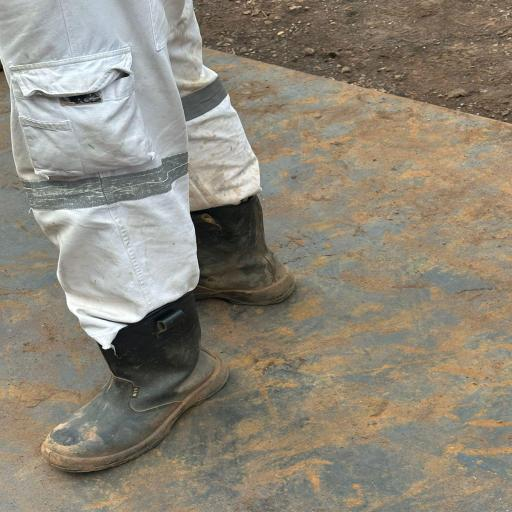safety_shoe: (20, 298, 234, 471), (180, 199, 308, 303)
